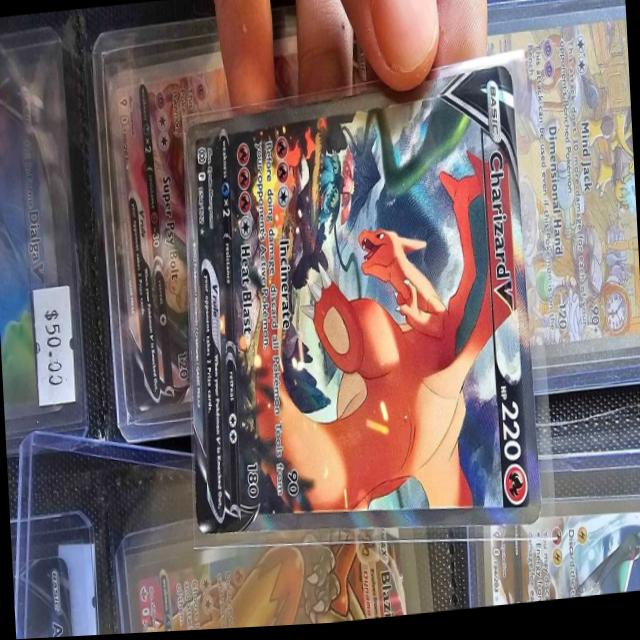card: (186, 70, 542, 536), (485, 14, 640, 366), (124, 532, 407, 635), (0, 62, 70, 421)
